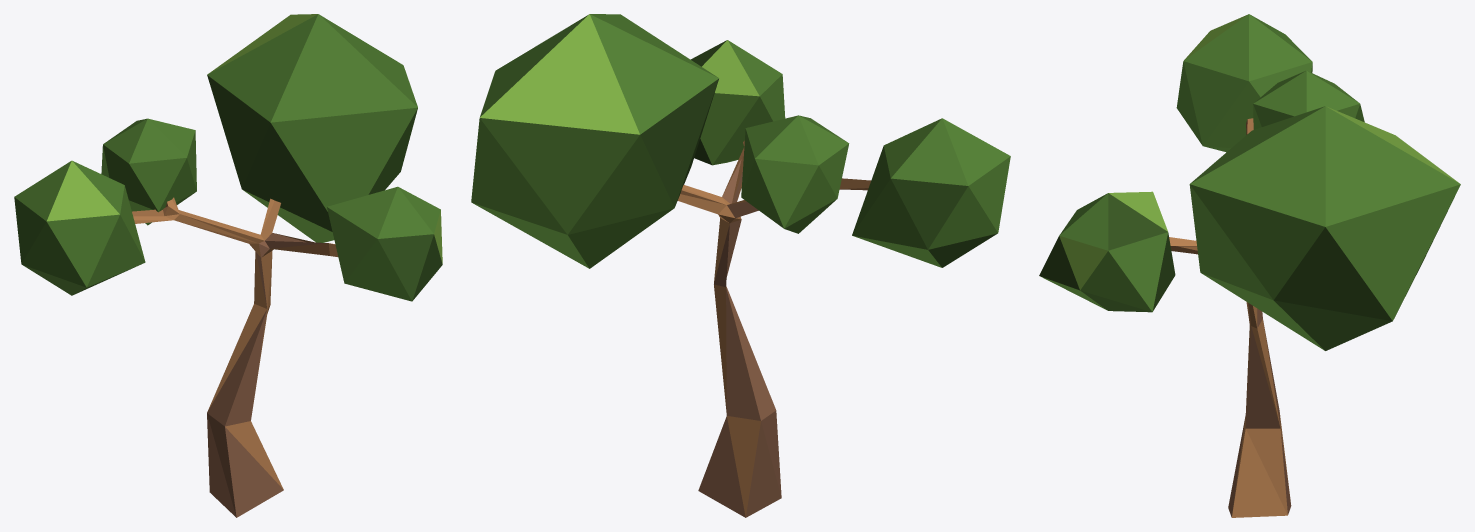
The model's file is deformedfirsttree.fbx.
3 renders of one model, left to right at view 1: azimuth 30°, elevation 25°; view 2: azimuth 150°, elevation 25°; view 3: azimuth 270°, elevation 25°, orthographic. The views are drawn at different scales.
Visible parts, largest first — view 1: Icosphere.001, Cube, Icosphere, Icosphere.002, Icosphere.003; view 2: Icosphere.001, Icosphere, Cube, Icosphere.003, Icosphere.002; view 3: Icosphere.001, Icosphere.002, Icosphere, Cube, Icosphere.003.
Part boxes in pixels (x1,y1,x2,y2): Icosphere.001: [207, 14, 417, 242]; Cube: [132, 197, 338, 517]; Icosphere: [14, 160, 145, 295]; Icosphere.002: [327, 186, 442, 301]; Icosphere.003: [101, 118, 196, 225]; Icosphere.001: [471, 14, 718, 268]; Icosphere: [852, 118, 1010, 267]; Cube: [677, 140, 870, 517]; Icosphere.003: [741, 115, 849, 233]; Icosphere.002: [691, 40, 785, 165]; Icosphere.001: [1189, 106, 1460, 350]; Icosphere.002: [1039, 191, 1175, 312]; Icosphere: [1176, 14, 1312, 152]; Cube: [1169, 118, 1291, 517]; Icosphere.003: [1253, 70, 1364, 129].
Size of the model in its own units: 1630 by 1638 by 1338.
